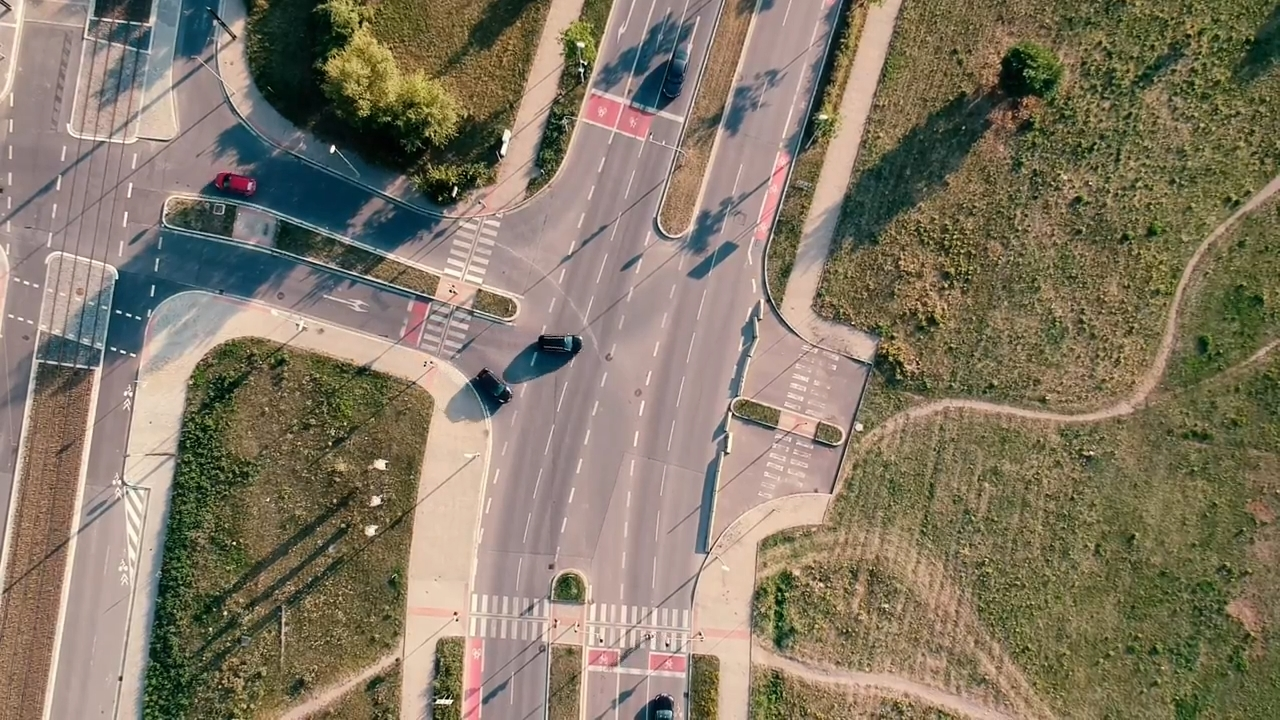car: (663, 41, 696, 98), (470, 365, 514, 406), (535, 330, 587, 356), (215, 170, 257, 196), (653, 691, 679, 720)
